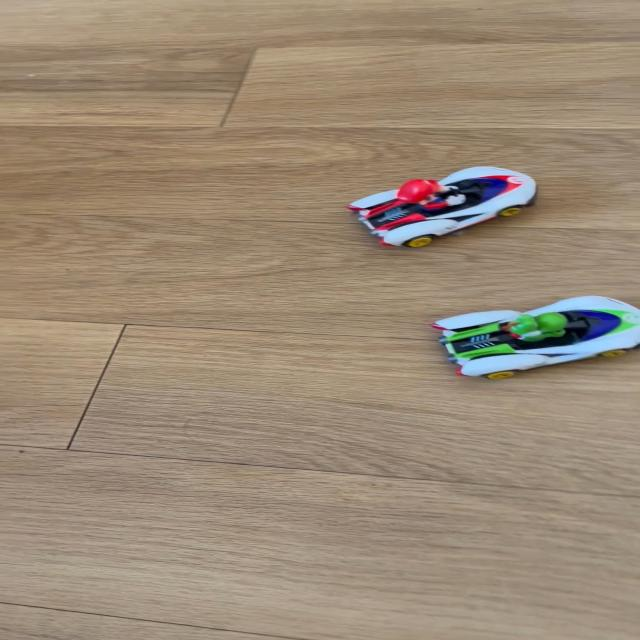mario: (337, 163, 550, 251)
yoshi: (426, 291, 640, 380)
